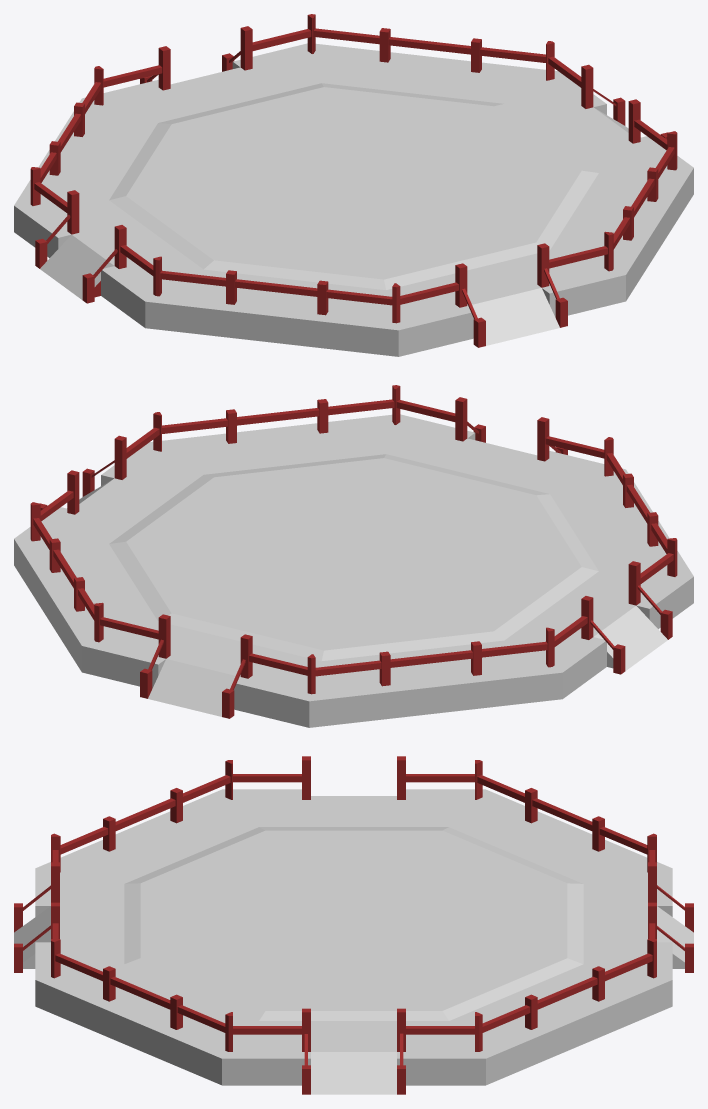
Rendered from Asian_Building_Temple_Pagoda_Base_02.FBX.
3 views of the same model, one above another, from view 1: azimuth 30°, elevation 25°; view 2: azimuth 150°, elevation 25°; view 3: azimuth 270°, elevation 25° (orthographic).
Parts seen in each view (by area): view 1: Asian_Building_Temple_Pagoda_Base_02; view 2: Asian_Building_Temple_Pagoda_Base_02; view 3: Asian_Building_Temple_Pagoda_Base_02.
Boxes of the visible parts, x1,y1,x2,y2 form: Asian_Building_Temple_Pagoda_Base_02: (14,14,693,356); Asian_Building_Temple_Pagoda_Base_02: (14,385,693,727); Asian_Building_Temple_Pagoda_Base_02: (14,756,693,1094).
Size of the model in its own units: 25753 by 2774 by 25753.
